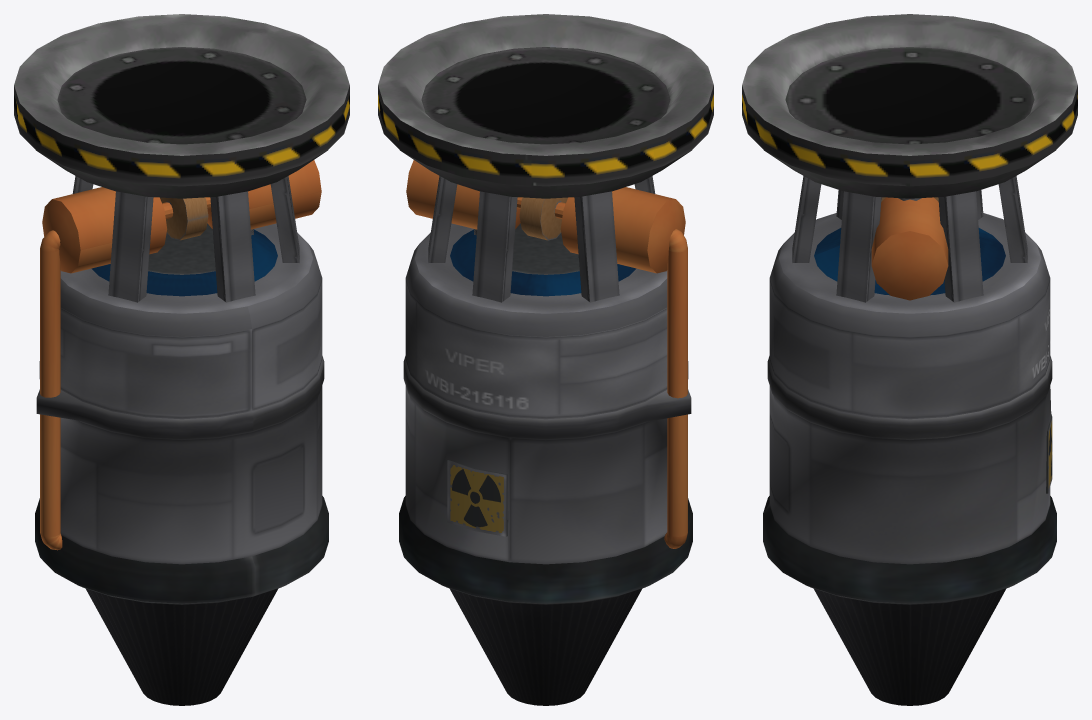
The model's file is NuclearAerospike.FBX.
3 renders of one model, left to right at view 1: azimuth 30°, elevation 25°; view 2: azimuth 150°, elevation 25°; view 3: azimuth 270°, elevation 25°, orthographic.
Visible parts, largest first — view 1: Main Body, EngineMount, Cylinder032, OilTank005, Box017, Box018, OilTank004, OilTank003, Box016; view 2: Main Body, EngineMount, Cylinder032, OilTank005, Box014, Box019, Box013, OilTank004, OilTank003, Box015; view 3: Main Body, EngineMount, OilTank004, Box015, Box016, Box014, Box017.
Part boxes in pixels (x1,y1,x2,y2): Main Body: (35,223,328,705); EngineMount: (14,14,349,198); Cylinder032: (40,230,62,550); OilTank005: (42,187,167,273); Box017: (210,191,255,302); Box018: (108,191,153,302); OilTank004: (207,160,321,229); OilTank003: (160,197,210,240); Box016: (270,176,299,262); Main Body: (399,223,692,705); EngineMount: (378,14,713,198); Cylinder032: (664,229,687,548); OilTank005: (560,187,685,273); Box014: (472,191,517,302); Box019: (574,191,619,302); Box013: (447,460,507,536); OilTank004: (406,160,520,229); OilTank003: (517,197,567,240); Box015: (428,176,457,262); Main Body: (763,213,1056,705); EngineMount: (742,14,1077,198); OilTank004: (871,197,948,300); Box015: (938,191,983,302); Box016: (836,191,881,302); Box014: (998,176,1027,262); Box017: (792,176,821,262).
Size of what is drawn, in the model's own units: 1.25 by 2.48 by 1.25.
